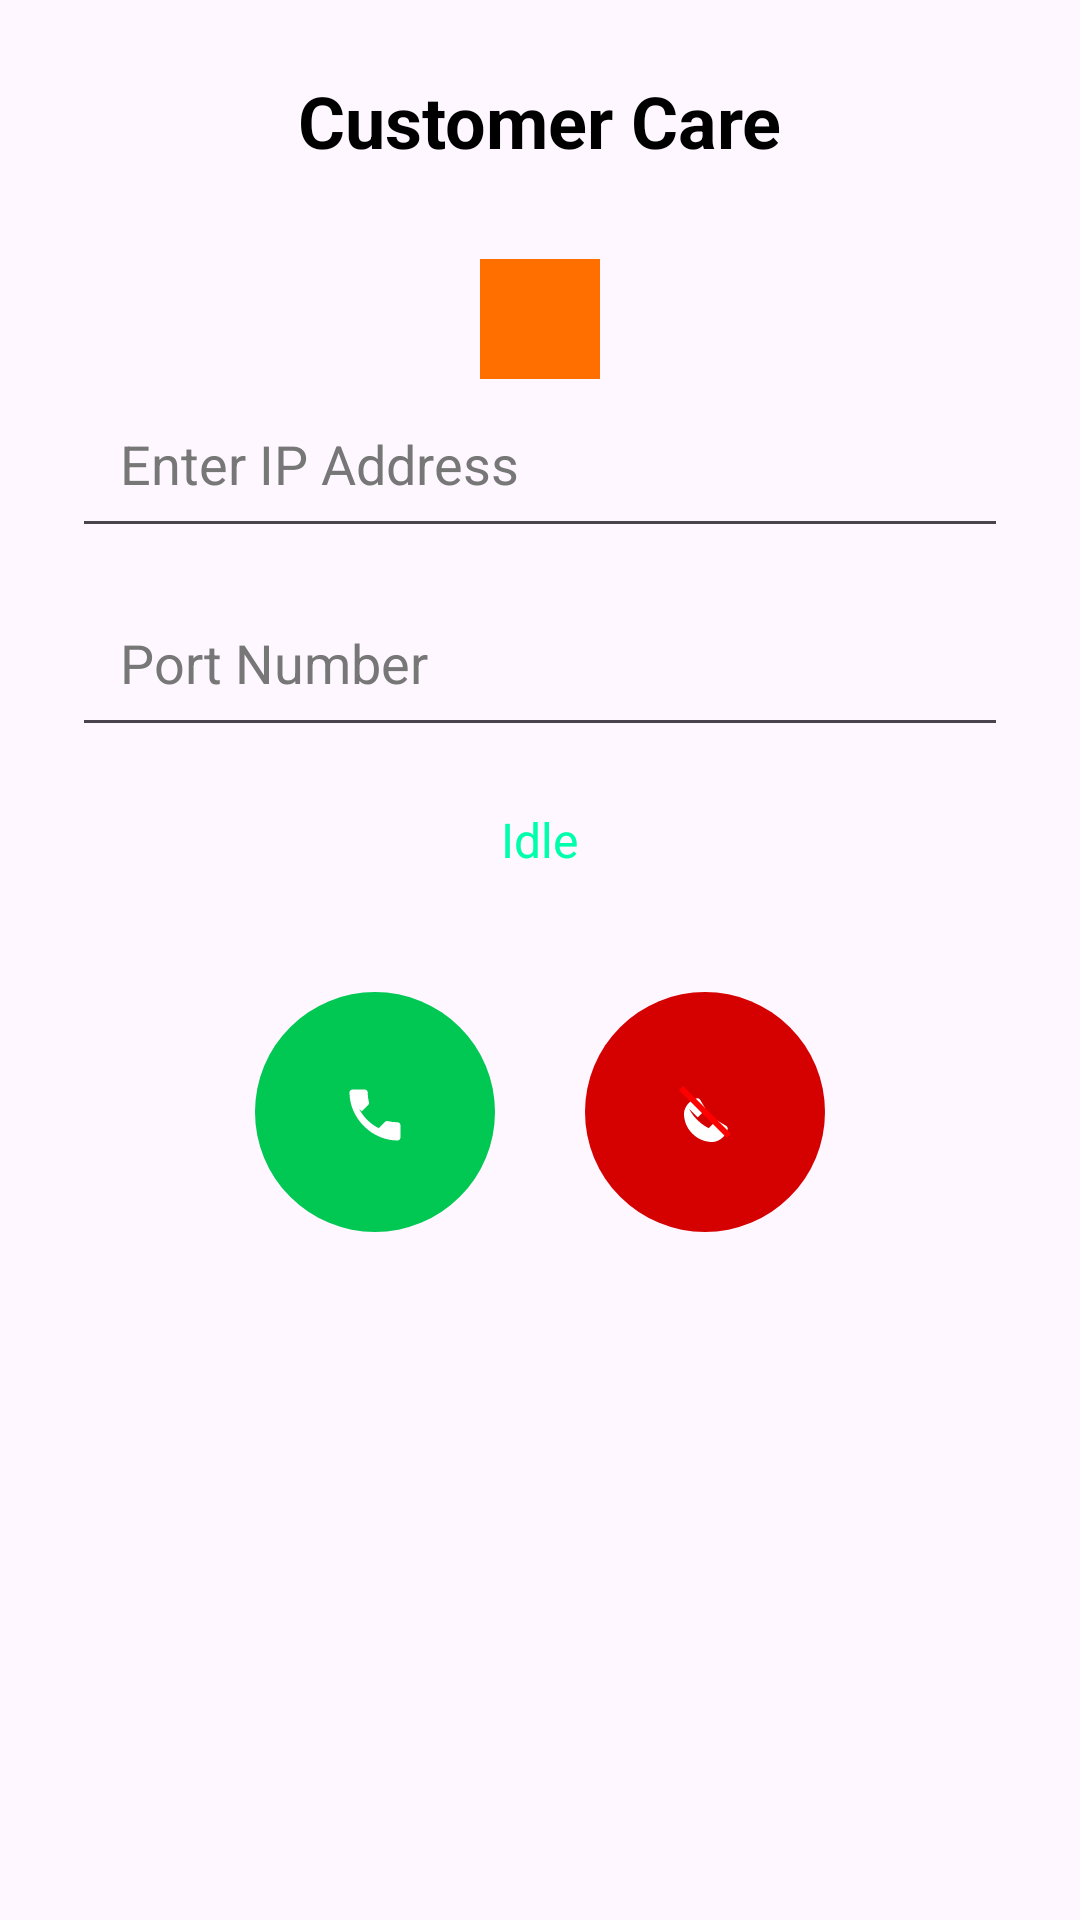

Icon bounding boxes for this 1080×1920 phone screenshot, format [x1,y1,x2,y2]:
Call: [255,992,495,1232]
End Call: [585,992,825,1232]
